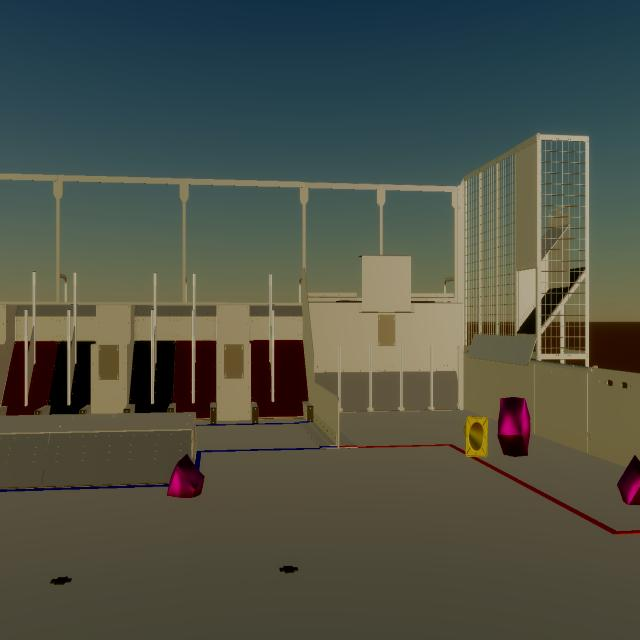frc_cone: (464, 417, 488, 458)
frc_cube: (498, 397, 530, 457), (167, 454, 205, 498), (617, 455, 640, 506)
